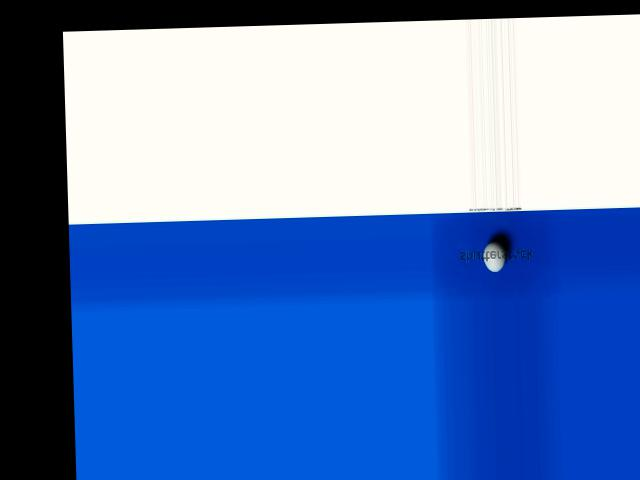egg: (483, 240, 506, 272)
